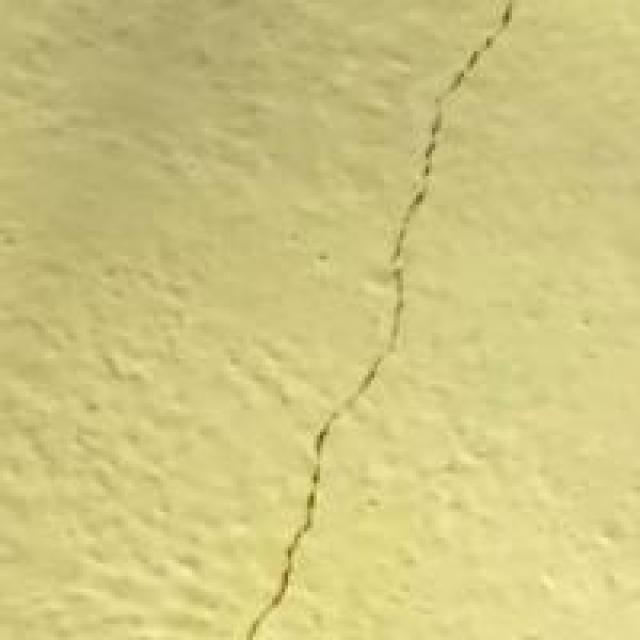crack: (224, 0, 531, 637)
